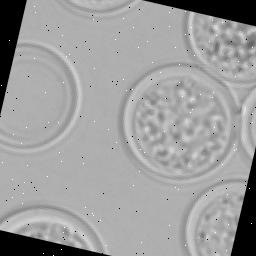picoshell: (120, 62, 242, 182), (0, 39, 83, 152), (180, 177, 248, 256), (0, 203, 107, 253), (186, 11, 256, 87), (61, 0, 141, 16), (242, 88, 256, 157)
